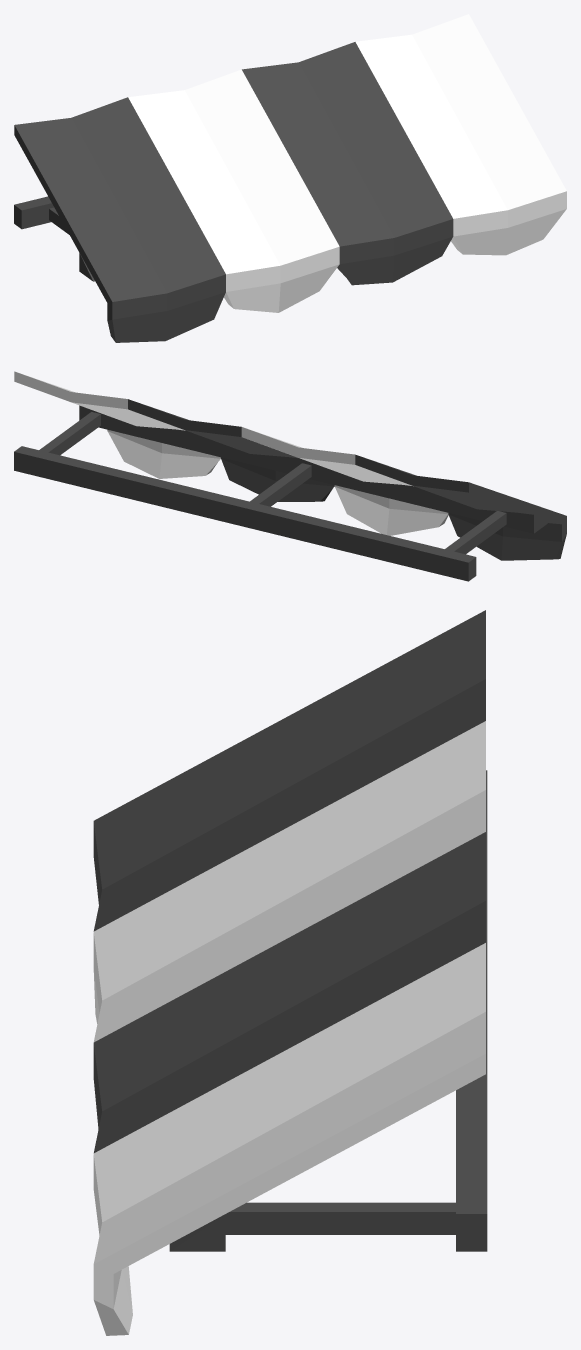
File: Awning_01.fbx
3 views of the same model, one above another, from view 1: azimuth 30°, elevation 25°; view 2: azimuth 150°, elevation 25°; view 3: azimuth 270°, elevation 25° (orthographic). The views are drawn at different scales.
Parts seen in each view (by area): view 1: SM_Bld_Awning_01; view 2: SM_Bld_Awning_01; view 3: SM_Bld_Awning_01.
Boxes of the visible parts, x1=… form: SM_Bld_Awning_01: x1=14, y1=14, x2=566, y2=342; SM_Bld_Awning_01: x1=14, y1=371, x2=566, y2=581; SM_Bld_Awning_01: x1=93, y1=610, x2=487, y2=1335.
Bounding box in the file's own units: 250 × 84.65 × 93.77.
